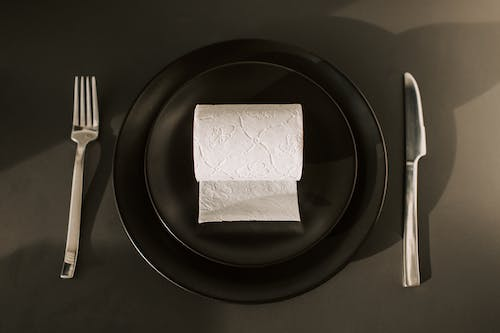knife: (399, 70, 428, 288)
